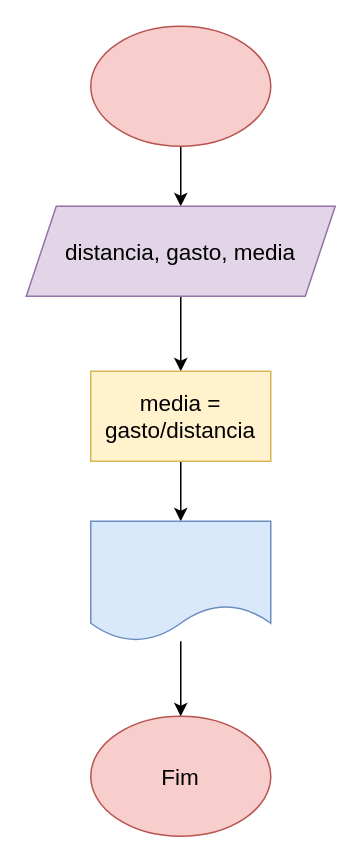
Some shapes in this 362 by 863 pixel diagram are drawn without their labels. The box of each missing label's shape, as (x1, y1, x2, y2) in pixels:
Inicio: (89, 25, 271, 146)
Media: (89, 520, 271, 641)
